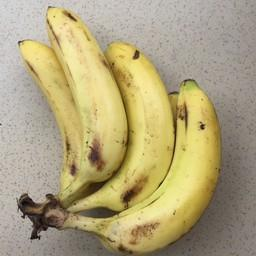Banana Ripe: (76, 43, 233, 256), (38, 1, 129, 223), (76, 22, 177, 219), (6, 33, 87, 197)
